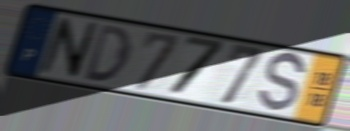7: (169, 34, 228, 101), (135, 28, 183, 94), (221, 41, 266, 109)
D: (82, 22, 134, 85)
N: (36, 15, 101, 82)
S: (255, 51, 308, 115)
